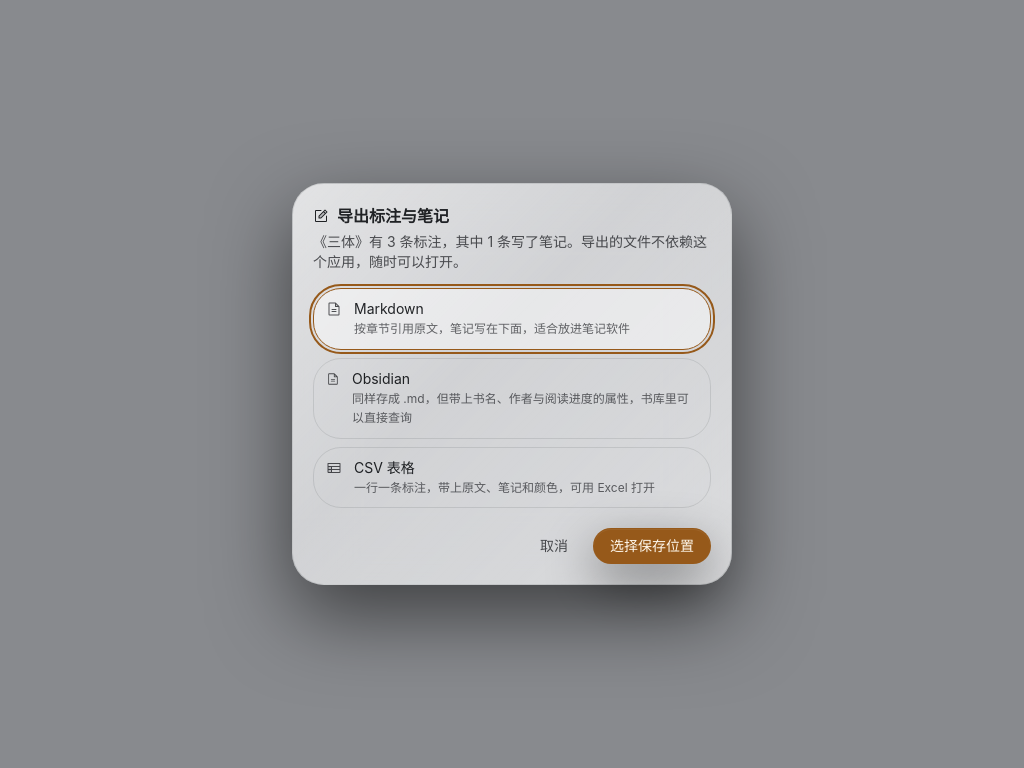
Test: ExportNotesDialog › clears the reason once the panel opens again
Click the button "选择保存位置" at (652, 546), box [593,528,711,564]
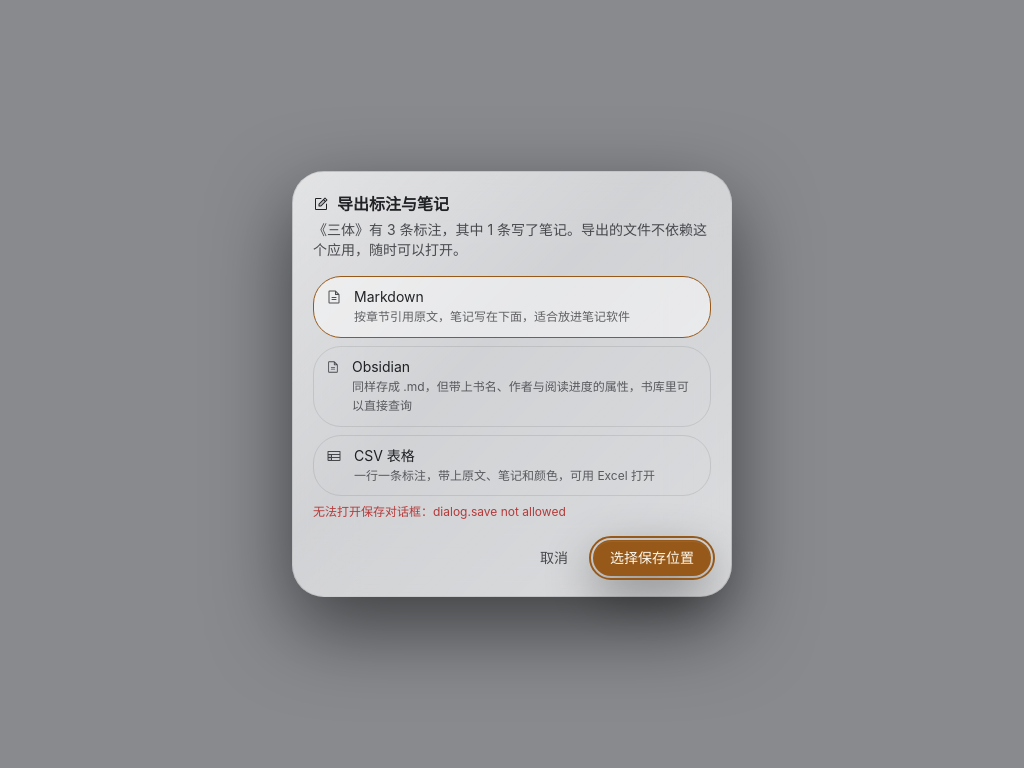
Check: the text "无法打开保存对话框：dialog.save not allowed" is shown, box [313,504,566,519]
Click the button "选择保存位置" at (652, 558), box [593,540,711,576]
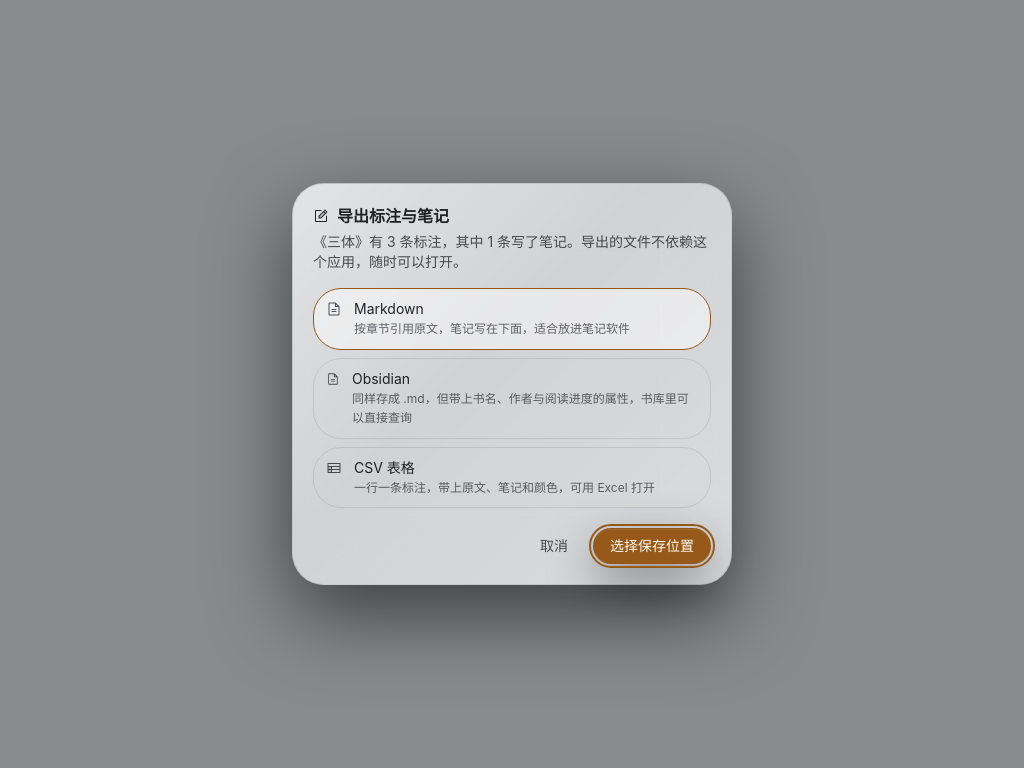
Check: the text "无法打开保存对话框" is gone
